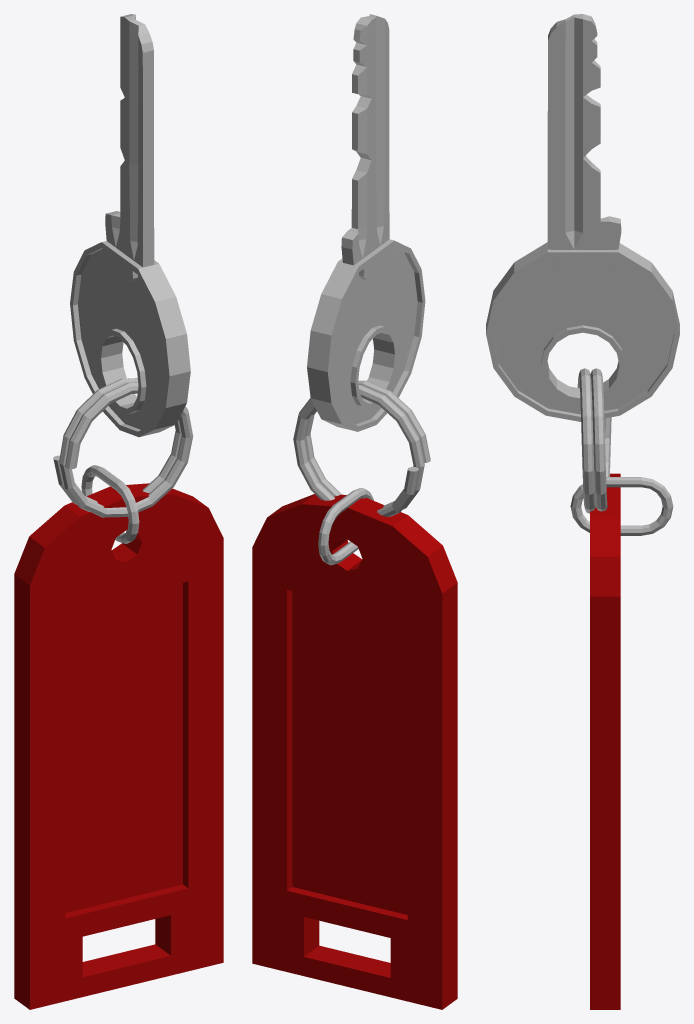
File: props_key.fbx
3 renders of one model, left to right at view 1: azimuth 30°, elevation 25°; view 2: azimuth 150°, elevation 25°; view 3: azimuth 270°, elevation 25°, orthographic. The views are drawn at different scales.
Parts seen in each view (by area): view 1: Key_Tag_Geo, Key_Geo, Key_Ring_Geo; view 2: Key_Tag_Geo, Key_Geo, Key_Ring_Geo; view 3: Key_Geo, Key_Tag_Geo, Key_Ring_Geo.
Boxes of the visible parts, box(x1,y1,x2,y2) form: Key_Tag_Geo: box(14, 483, 223, 1009); Key_Geo: box(70, 14, 190, 437); Key_Ring_Geo: box(53, 378, 193, 543); Key_Tag_Geo: box(252, 494, 457, 1009); Key_Geo: box(307, 14, 425, 431); Key_Ring_Geo: box(293, 380, 430, 565); Key_Geo: box(486, 14, 679, 421); Key_Tag_Geo: box(590, 473, 620, 1009); Key_Ring_Geo: box(570, 368, 673, 535).
Bounding box in the file's own units: 2.24 × 10.73 × 1.99.
